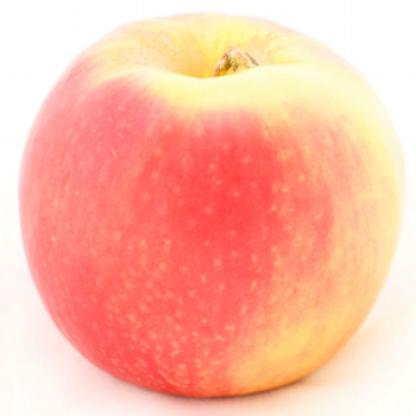apple: (10, 8, 408, 398)
